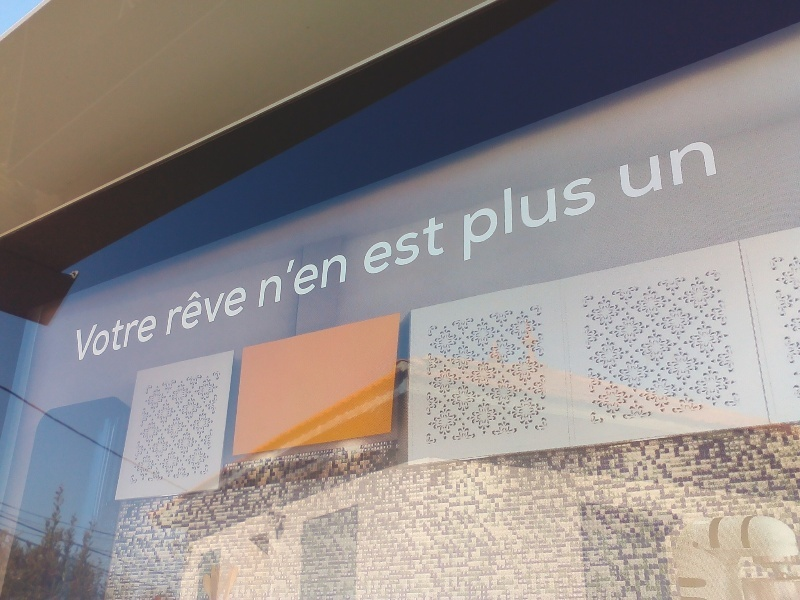text: (465, 164, 480, 265), (481, 164, 496, 265), (497, 164, 512, 265), (513, 164, 528, 265), (529, 164, 544, 265), (545, 164, 560, 265), (561, 164, 576, 265), (577, 164, 592, 265), (625, 136, 640, 204), (641, 136, 656, 204), (657, 136, 672, 204), (673, 136, 688, 204), (689, 136, 704, 204), (705, 136, 720, 204), (273, 243, 288, 309), (289, 243, 304, 309), (305, 243, 320, 309), (321, 243, 336, 309), (369, 213, 384, 279), (385, 213, 400, 279), (401, 213, 416, 279), (417, 213, 432, 279), (337, 243, 351, 309), (433, 213, 447, 279), (177, 277, 192, 338), (193, 277, 208, 338), (209, 277, 224, 338), (225, 277, 240, 338), (81, 307, 96, 362), (97, 307, 112, 362), (113, 307, 128, 362), (129, 307, 144, 362), (145, 307, 160, 362), (593, 164, 599, 265), (168, 277, 176, 338), (265, 243, 272, 309), (241, 277, 248, 338), (619, 136, 624, 204), (363, 213, 368, 279), (461, 164, 464, 265), (76, 307, 80, 362), (721, 136, 722, 204)
